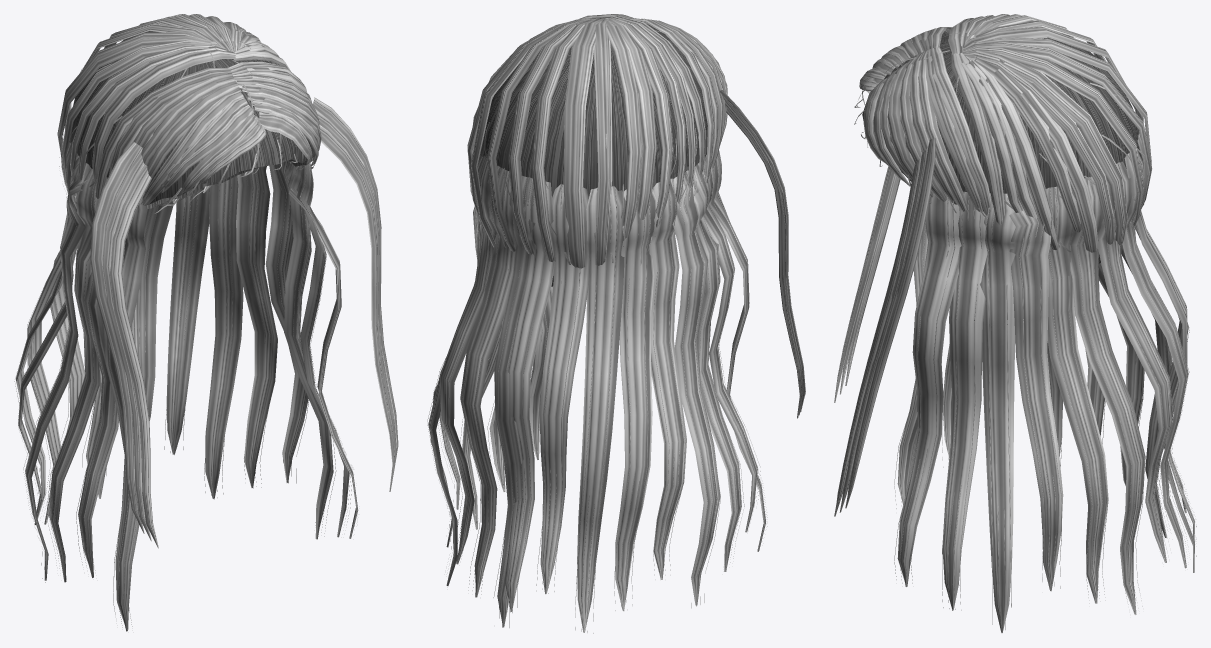
Rendered from unified_f_long.glb.
3 views of the same model, side by side, from view 1: azimuth 30°, elevation 25°; view 2: azimuth 150°, elevation 25°; view 3: azimuth 270°, elevation 25° (orthographic).
Visible parts, largest first — view 1: Hair_directional_locks, Hair_face_framing_lock, Hair_wavy_layer.014, Hair_wavy_layer.013, Hair_wavy_layer.015, Hair_face_framing_lock.001, Hair_wavy_layer.002, Hair_scalp, Hair_wavy_layer, Hair_wavy_layer.011, Hair_wavy_layer.012, Hair_wavy_layer.003 (+15 smaller); view 2: Hair_directional_locks, Hair_wavy_layer.006, Hair_wavy_layer.005, Hair_wavy_layer.007, Hair_scalp, Hair_wavy_layer.003, Hair_wavy_layer.004, Hair_wavy_layer.016, Hair_wavy_layer.008, Hair_wavy_layer.017, Hair_wavy_layer.015, Hair_wavy_layer.002 (+19 smaller); view 3: Hair_directional_locks, Hair_wavy_layer.011, Hair_wavy_layer.010, Hair_wavy_layer.012, Hair_wavy_layer.009, Hair_wavy_layer.013, Hair_wavy_layer.014, Hair_face_framing_lock.001, Hair_wavy_layer.015, Hair_scalp, Hair_wavy_layer.016, Hair_face_framing_lock (+16 smaller).
Boxes of the visible parts, bbox=[...] form: Hair_directional_locks: bbox=[57, 14, 321, 205]; Hair_face_framing_lock: bbox=[90, 141, 158, 548]; Hair_wavy_layer.014: bbox=[205, 173, 244, 499]; Hair_wavy_layer.013: bbox=[236, 166, 277, 488]; Hair_wavy_layer.015: bbox=[166, 187, 209, 454]; Hair_face_framing_lock.001: bbox=[312, 97, 398, 491]; Hair_wavy_layer.002: bbox=[49, 168, 107, 582]; Hair_scalp: bbox=[68, 31, 309, 209]; Hair_wavy_layer: bbox=[103, 197, 146, 631]; Hair_wavy_layer.011: bbox=[284, 164, 333, 539]; Hair_wavy_layer.012: bbox=[265, 160, 308, 483]; Hair_wavy_layer.003: bbox=[25, 155, 90, 580]; Hair_directional_locks: bbox=[467, 14, 727, 268]; Hair_wavy_layer.006: bbox=[577, 186, 625, 632]; Hair_wavy_layer.005: bbox=[615, 185, 657, 611]; Hair_wavy_layer.007: bbox=[539, 184, 590, 594]; Hair_scalp: bbox=[481, 25, 707, 286]; Hair_wavy_layer.003: bbox=[672, 170, 720, 605]; Hair_wavy_layer.004: bbox=[649, 178, 686, 579]; Hair_wavy_layer.016: bbox=[460, 165, 515, 597]; Hair_wavy_layer.008: bbox=[505, 177, 556, 612]; Hair_wavy_layer.017: bbox=[494, 175, 536, 627]; Hair_wavy_layer.015: bbox=[440, 155, 496, 564]; Hair_wavy_layer.002: bbox=[693, 162, 741, 571]; Hair_directional_locks: bbox=[859, 14, 1152, 252]; Hair_wavy_layer.011: bbox=[980, 193, 1015, 632]; Hair_wavy_layer.010: bbox=[942, 191, 988, 610]; Hair_wavy_layer.012: bbox=[1009, 208, 1063, 591]; Hair_wavy_layer.009: bbox=[897, 192, 961, 586]; Hair_wavy_layer.013: bbox=[1046, 186, 1108, 603]; Hair_wavy_layer.014: bbox=[1069, 176, 1145, 614]; Hair_face_framing_lock.001: bbox=[834, 138, 935, 516]; Hair_wavy_layer.015: bbox=[1098, 161, 1172, 562]; Hair_scalp: bbox=[862, 34, 1141, 263]; Hair_wavy_layer.016: bbox=[1122, 151, 1188, 568]; Hair_face_framing_lock: bbox=[834, 166, 900, 402].
Size of the model in its own units: 0.1207 by 0.2172 by 0.1312.
Materials: 2 (2 with a texture image).
